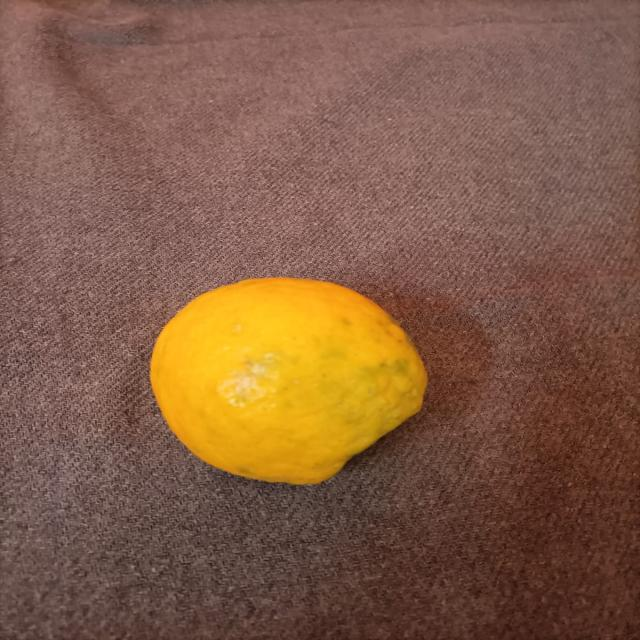orange: (115, 252, 471, 603)
